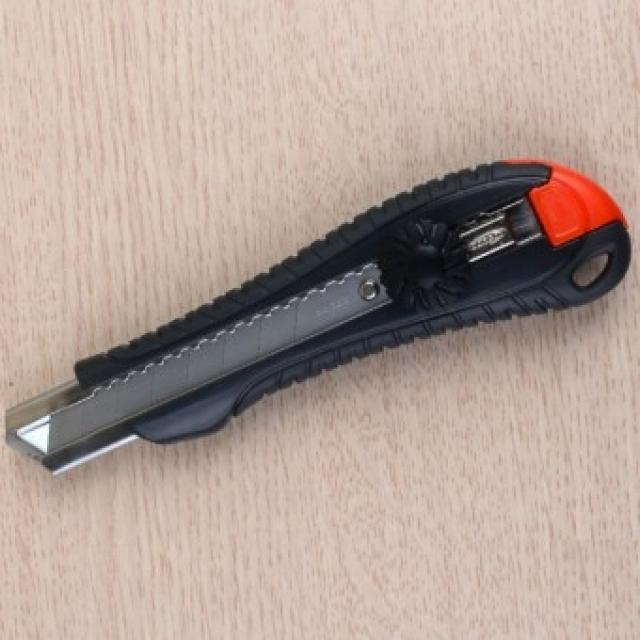cutter: (0, 156, 630, 487)
